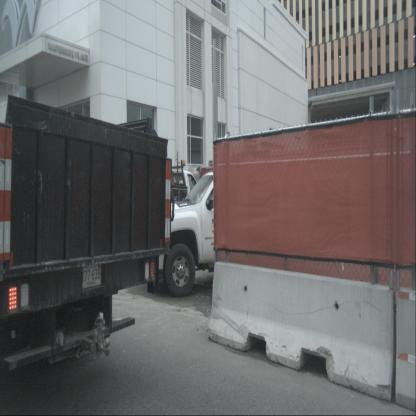movable_object-barrier: (208, 260, 396, 403)
vehicle-truck: (0, 92, 174, 394), (148, 168, 328, 296)
